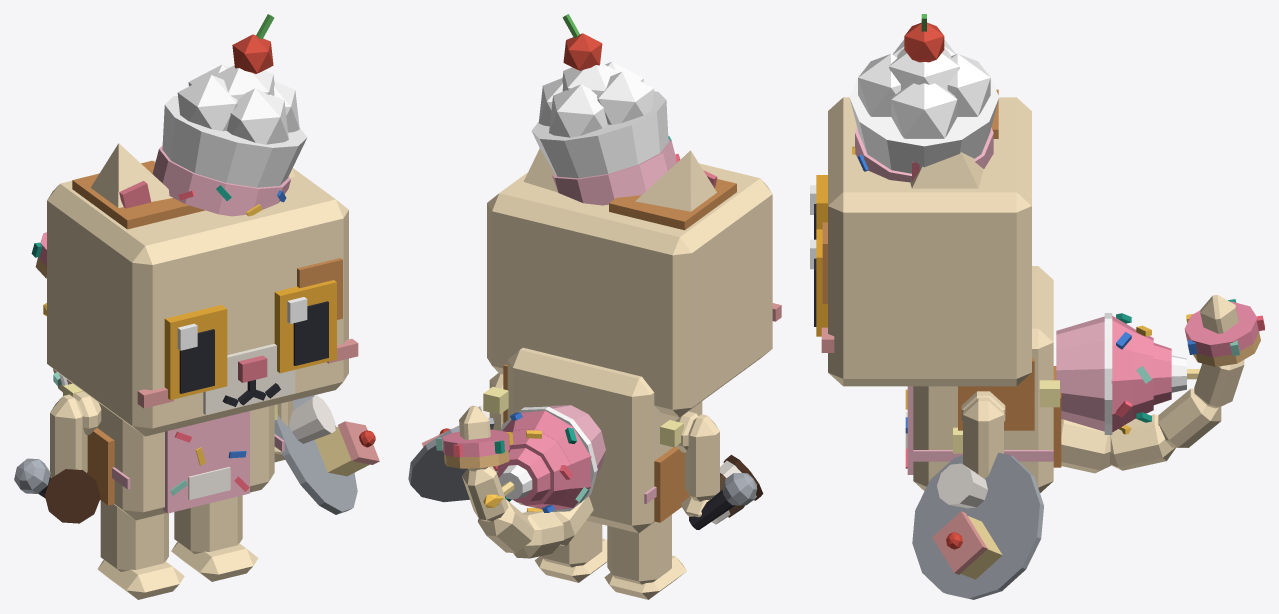
File: CatCafe_Cat_Sprinkles_Work.glb
3 renders of one model, left to right at view 1: azimuth 30°, elevation 25°; view 2: azimuth 150°, elevation 25°; view 3: azimuth 270°, elevation 25°, orthographic. The views are drawn at different scales.
Parts seen in each view (by area): view 1: CatCafe_Cat_Sprinkles_Work_Head, CatCafe_Cat_Sprinkles_Work_Prop, CatCafe_Cat_Sprinkles_Work_Body, CatCafe_Cat_Sprinkles_Work_Held_Waiter, CatCafe_Cat_Sprinkles_Work_LegB2, CatCafe_Cat_Sprinkles_Work_Eye2, CatCafe_Cat_Sprinkles_Work_Eye1, CatCafe_Cat_Sprinkles_Work_LegB1, CatCafe_Cat_Sprinkles_Work_EarR, CatCafe_Cat_Sprinkles_Work_LegF2, CatCafe_Cat_Sprinkles_Work_Held_Barista, CatCafe_Cat_Sprinkles_Work_Cherry_Glow (+1 smaller); view 2: CatCafe_Cat_Sprinkles_Work_Head, CatCafe_Cat_Sprinkles_Work_Body, CatCafe_Cat_Sprinkles_Work_Prop, CatCafe_Cat_Sprinkles_Work_Prop2, CatCafe_Cat_Sprinkles_Work_Tail, CatCafe_Cat_Sprinkles_Work_LegB2, CatCafe_Cat_Sprinkles_Work_LegF2, CatCafe_Cat_Sprinkles_Work_Held_Waiter, CatCafe_Cat_Sprinkles_Work_EarR, CatCafe_Cat_Sprinkles_Work_LegB1, CatCafe_Cat_Sprinkles_Work_Tail_Donut, CatCafe_Cat_Sprinkles_Work_Held_Entertainer (+4 smaller); view 3: CatCafe_Cat_Sprinkles_Work_Head, CatCafe_Cat_Sprinkles_Work_Prop, CatCafe_Cat_Sprinkles_Work_Held_Waiter, CatCafe_Cat_Sprinkles_Work_Body, CatCafe_Cat_Sprinkles_Work_Prop2, CatCafe_Cat_Sprinkles_Work_Tail, CatCafe_Cat_Sprinkles_Work_Tail_Donut, CatCafe_Cat_Sprinkles_Work_LegF1, CatCafe_Cat_Sprinkles_Work_EarL, CatCafe_Cat_Sprinkles_Work_Cherry_Glow, CatCafe_Cat_Sprinkles_Work_Eye1, CatCafe_Cat_Sprinkles_Work_Sprinkle_Glow (+1 smaller).
Part boxes in pixels (x1,y1,x2,y2): CatCafe_Cat_Sprinkles_Work_Head: (47, 160, 358, 436); CatCafe_Cat_Sprinkles_Work_Prop: (152, 14, 307, 216); CatCafe_Cat_Sprinkles_Work_Body: (63, 381, 284, 520); CatCafe_Cat_Sprinkles_Work_Held_Waiter: (274, 395, 379, 514); CatCafe_Cat_Sprinkles_Work_LegB2: (97, 500, 184, 599); CatCafe_Cat_Sprinkles_Work_Eye2: (164, 305, 227, 399); CatCafe_Cat_Sprinkles_Work_Eye1: (274, 280, 336, 373); CatCafe_Cat_Sprinkles_Work_LegB1: (171, 495, 258, 581); CatCafe_Cat_Sprinkles_Work_EarR: (90, 143, 172, 208); CatCafe_Cat_Sprinkles_Work_LegF2: (50, 394, 87, 477); CatCafe_Cat_Sprinkles_Work_Held_Barista: (44, 469, 100, 523); CatCafe_Cat_Sprinkles_Work_Cherry_Glow: (232, 34, 273, 73); CatCafe_Cat_Sprinkles_Work_Head: (487, 158, 781, 417); CatCafe_Cat_Sprinkles_Work_Body: (483, 347, 702, 533); CatCafe_Cat_Sprinkles_Work_Prop: (531, 14, 679, 205); CatCafe_Cat_Sprinkles_Work_Prop2: (497, 405, 605, 511); CatCafe_Cat_Sprinkles_Work_Tail: (459, 405, 593, 558); CatCafe_Cat_Sprinkles_Work_LegB2: (604, 514, 686, 599); CatCafe_Cat_Sprinkles_Work_LegF2: (681, 414, 719, 517); CatCafe_Cat_Sprinkles_Work_Held_Waiter: (408, 405, 497, 502); CatCafe_Cat_Sprinkles_Work_EarR: (635, 150, 717, 211); CatCafe_Cat_Sprinkles_Work_LegB1: (535, 520, 607, 582); CatCafe_Cat_Sprinkles_Work_Tail_Donut: (436, 429, 513, 468); CatCafe_Cat_Sprinkles_Work_Held_Entertainer: (689, 473, 756, 529); CatCafe_Cat_Sprinkles_Work_Head: (821, 89, 1031, 386); CatCafe_Cat_Sprinkles_Work_Prop: (849, 14, 999, 182); CatCafe_Cat_Sprinkles_Work_Held_Waiter: (912, 452, 1043, 599); CatCafe_Cat_Sprinkles_Work_Body: (905, 266, 1061, 492); CatCafe_Cat_Sprinkles_Work_Prop2: (1056, 313, 1200, 434); CatCafe_Cat_Sprinkles_Work_Tail: (1061, 294, 1244, 473); CatCafe_Cat_Sprinkles_Work_Tail_Donut: (1184, 299, 1264, 366); CatCafe_Cat_Sprinkles_Work_LegF1: (963, 397, 1003, 478); CatCafe_Cat_Sprinkles_Work_EarL: (910, 152, 983, 188); CatCafe_Cat_Sprinkles_Work_Cherry_Glow: (904, 22, 944, 62); CatCafe_Cat_Sprinkles_Work_Eye1: (810, 229, 827, 336); CatCafe_Cat_Sprinkles_Work_Sprinkle_Glow: (1116, 313, 1151, 434).
Size of the model in its own units: 1.53 by 2.35 by 1.69.
Materials: 1 (1 with a texture image).
